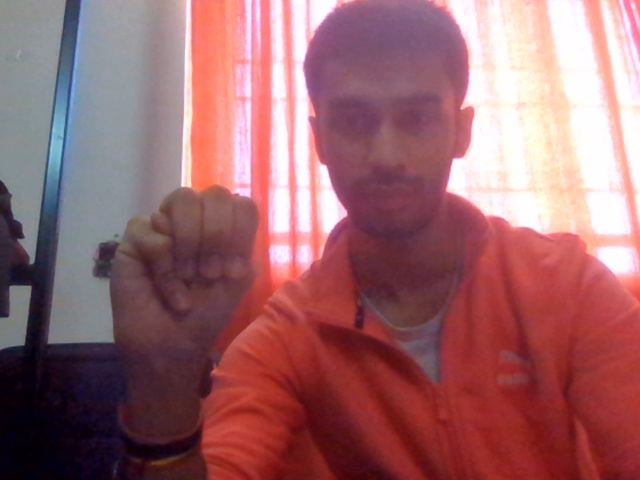M: (77, 139, 282, 407)
